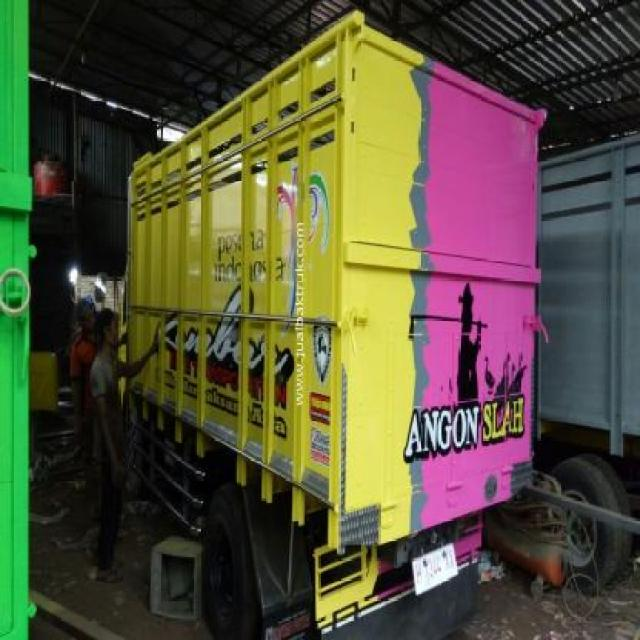truck: (116, 19, 549, 640)
